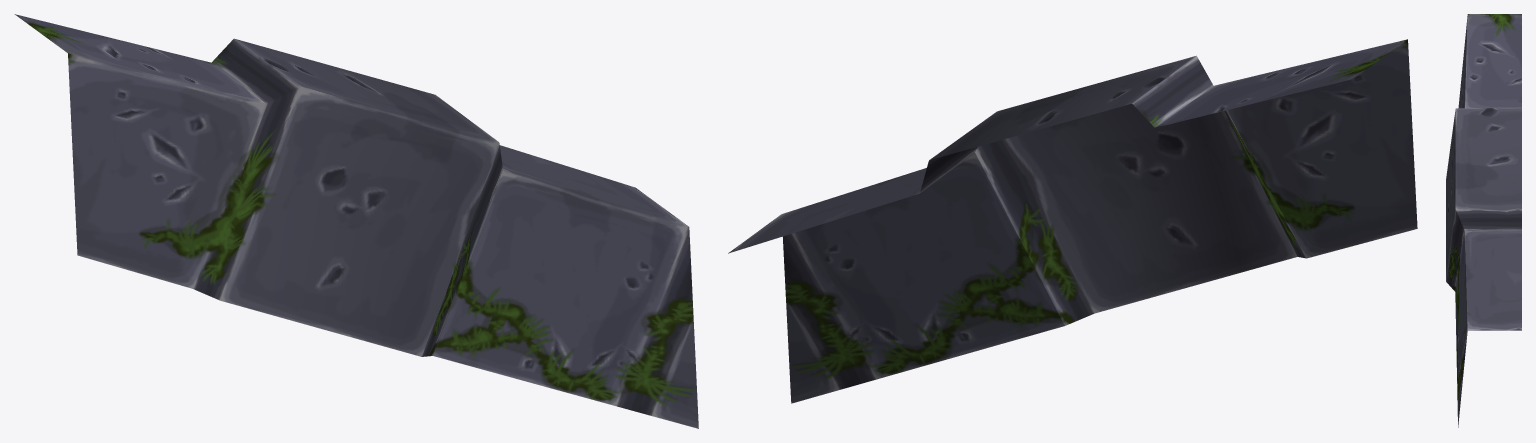
File: MOD_Stairs_01_WallTrim_L_4.fbx
3 views of the same model, side by side, from view 1: azimuth 30°, elevation 25°; view 2: azimuth 150°, elevation 25°; view 3: azimuth 270°, elevation 25° (orthographic). The views are drawn at different scales.
Visible parts, largest first — view 1: MOD_Stairs_01_WallTrim_L_4; view 2: MOD_Stairs_01_WallTrim_L_4; view 3: MOD_Stairs_01_WallTrim_L_4.
Boxes of the visible parts, x1,y1,x2,y2 form: MOD_Stairs_01_WallTrim_L_4: (14,14,698,428); MOD_Stairs_01_WallTrim_L_4: (728,39,1417,403); MOD_Stairs_01_WallTrim_L_4: (1446,14,1521,427).
Size of what is drawn, in the model's own units: 200 by 160 by 41.96.
